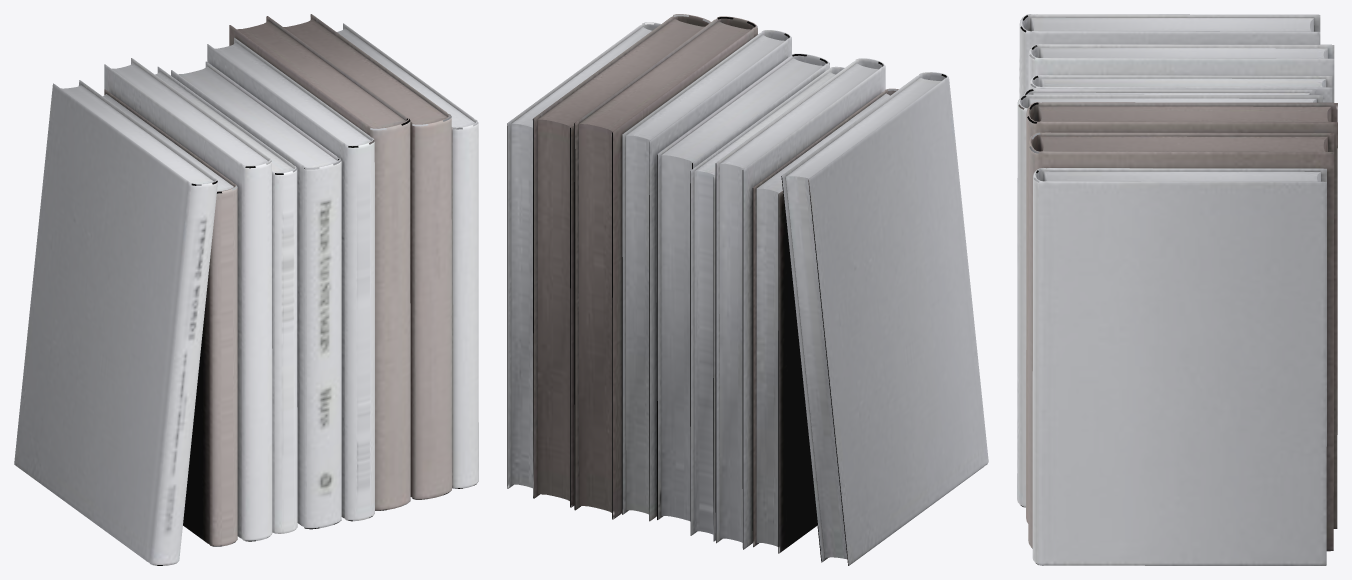
Rendered from book0023.glb.
The picture shows the model from 3 angles, left to right: view 1: azimuth 30°, elevation 25°; view 2: azimuth 150°, elevation 25°; view 3: azimuth 270°, elevation 25°; orthographic projection. The views are drawn at different scales.
Visible parts, largest first — view 1: books_nb_024; view 2: books_nb_024; view 3: books_nb_024.
Part boxes in pixels (x1,y1,x2,y2): books_nb_024: [14, 14, 478, 565]; books_nb_024: [507, 14, 988, 565]; books_nb_024: [1017, 14, 1337, 565].
Size of the model in its own units: 238 by 260 by 186.
Materials: 1 (1 with a texture image).
